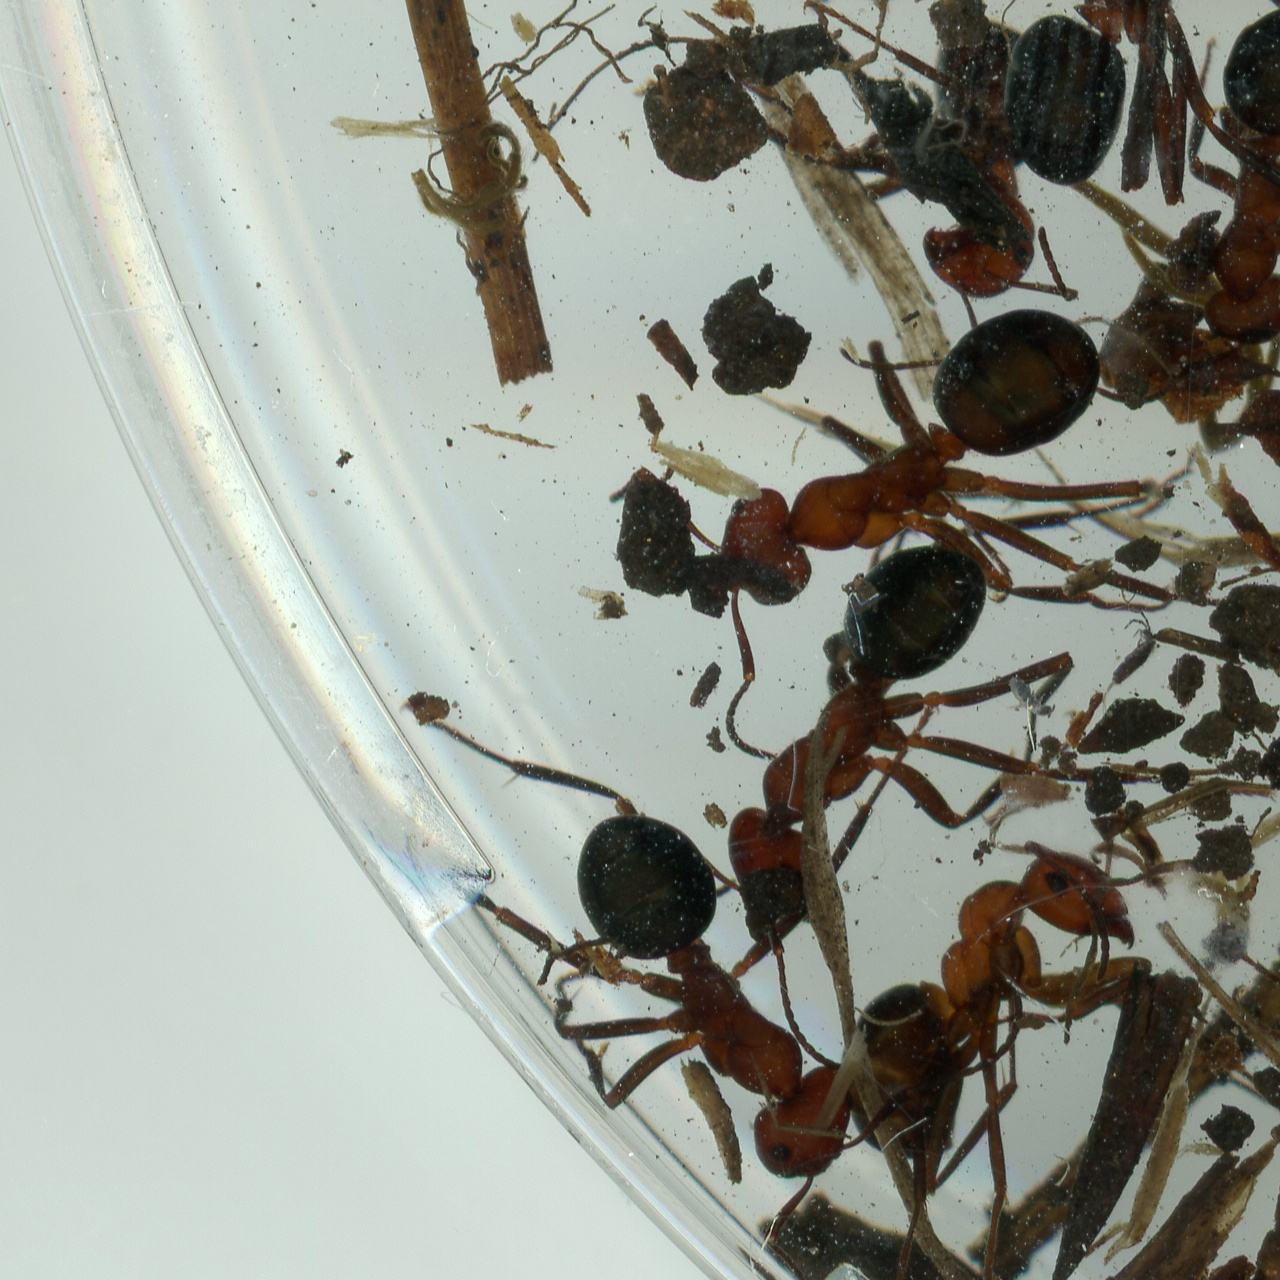arthropod: (578, 229, 1201, 782), (644, 493, 1122, 1109), (406, 713, 907, 1235), (768, 0, 1134, 389), (847, 838, 1155, 1221), (1105, 0, 1280, 352), (996, 0, 1280, 187), (1218, 948, 1280, 1192), (1097, 606, 1160, 714), (1005, 672, 1059, 725)
